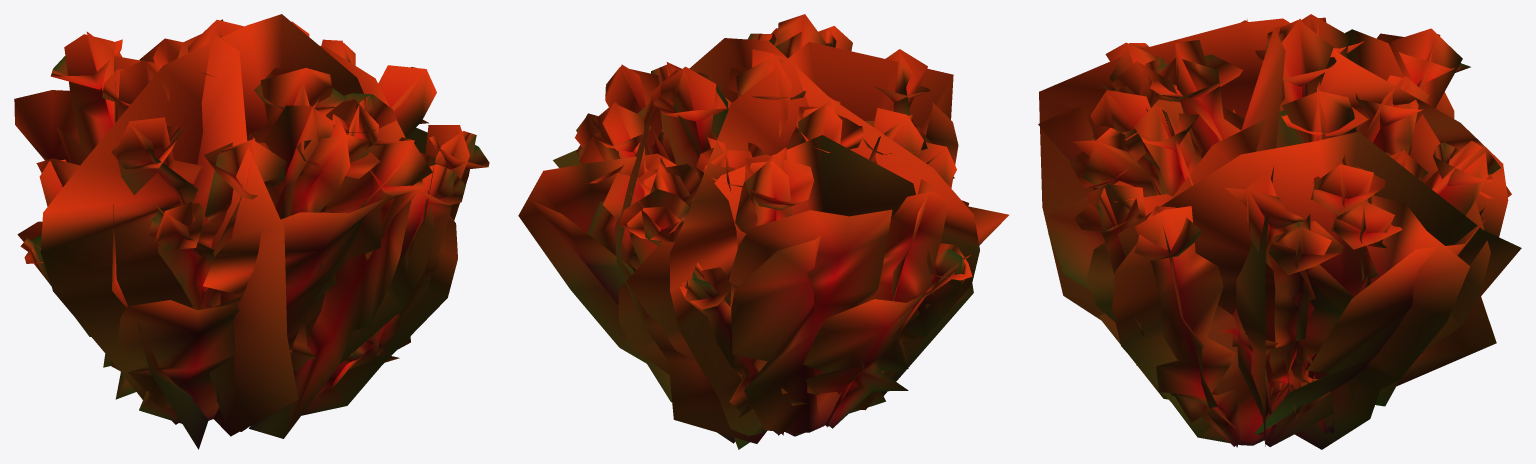
The model's file is RabbitBushRHEP_C.fbx.
3 views of the same model, side by side, from view 1: azimuth 30°, elevation 25°; view 2: azimuth 150°, elevation 25°; view 3: azimuth 270°, elevation 25° (orthographic). The views are drawn at different scales.
Parts seen in each view (by area): view 1: RabbitBushRHEPC_LOD0; view 2: RabbitBushRHEPC_LOD0; view 3: RabbitBushRHEPC_LOD0.
Boxes of the visible parts, x1,y1,x2,y2 form: RabbitBushRHEPC_LOD0: (14,14,489,449); RabbitBushRHEPC_LOD0: (518,14,1009,449); RabbitBushRHEPC_LOD0: (1038,14,1521,449).
Size of what is drawn, in the model's own units: 2.23 by 1.94 by 2.04.
